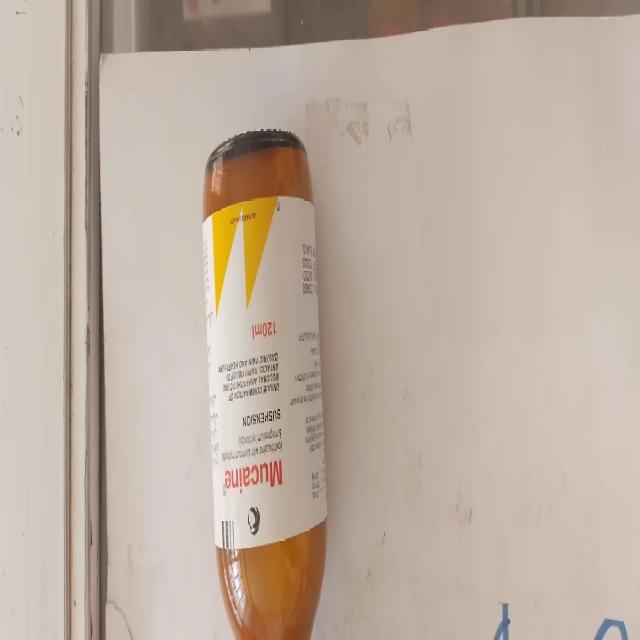drug-name: (217, 456, 287, 497)
